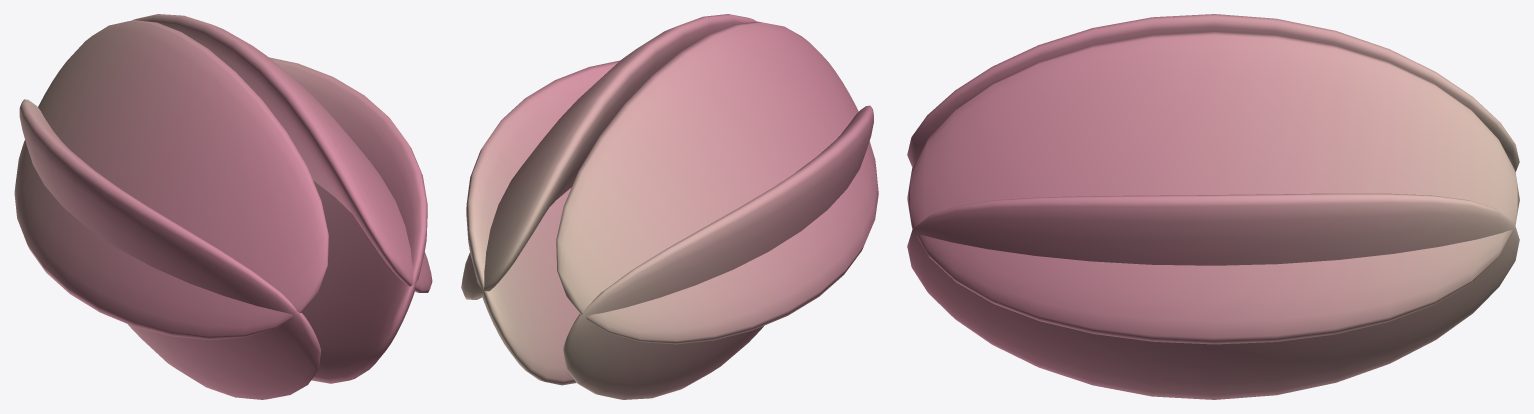
File: seedpod-starfighter-spinner.obj
3 renders of one model, left to right at view 1: azimuth 30°, elevation 25°; view 2: azimuth 150°, elevation 25°; view 3: azimuth 270°, elevation 25°, orthographic. The views are drawn at different scales.
Parts seen in each view (by area): view 1: spinner; view 2: spinner; view 3: spinner.
Boxes of the visible parts, box(x1,y1,x2,y2) form: spinner: box(14, 14, 432, 399); spinner: box(461, 14, 878, 399); spinner: box(907, 14, 1519, 399).
Size of the model in its own units: 75.27 by 73.76 by 116.
